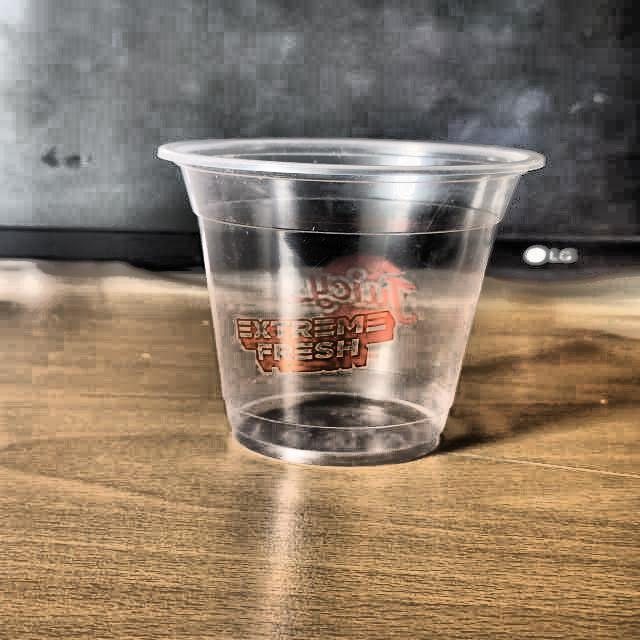plastic cup: (155, 136, 548, 469)
